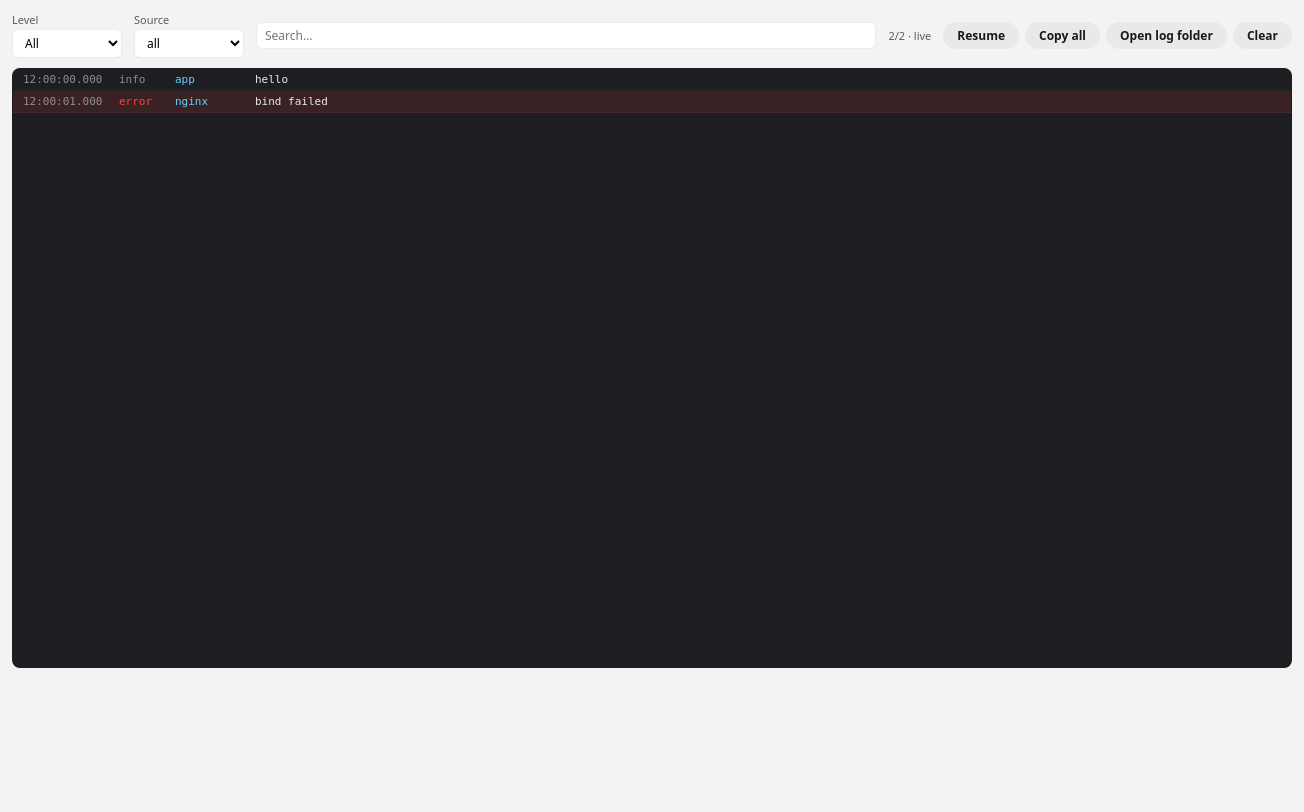
Scenario: LogsPage › renders entries and filters by level
Expected: the text "hello" is shown, [255,73,288,86]
Expected: the text "bind failed" is shown, [255,95,328,108]
Select "Error" in the dropdown with test id "logs-level" showing "Level" at (67, 44), box [12,29,122,58]
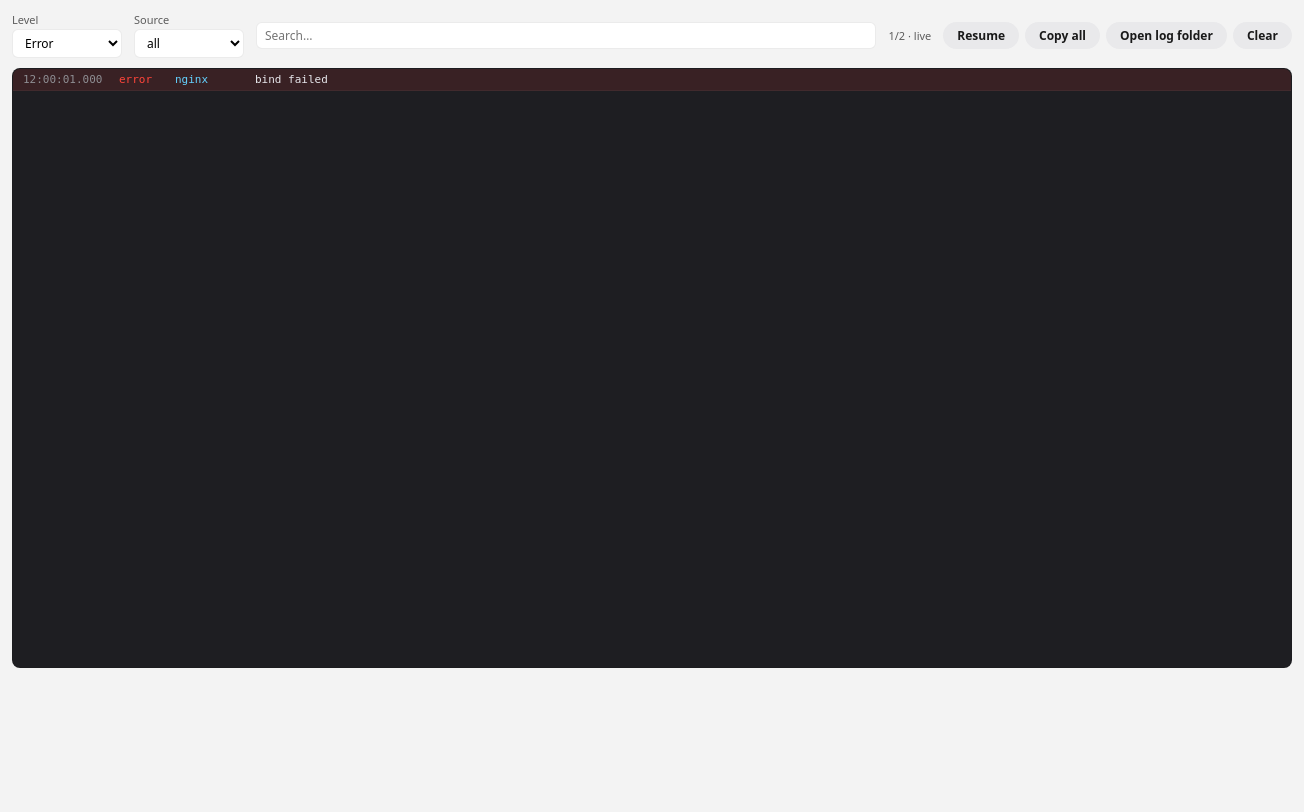
Expected: the text "bind failed" is shown, [255,73,328,86]
Now the text "hello" is gone
